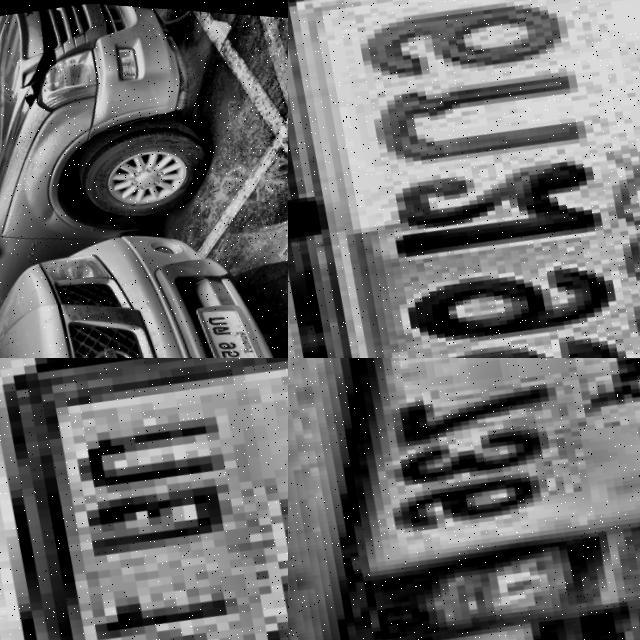license-plate: (288, 0, 640, 358), (288, 358, 640, 640), (0, 358, 288, 640), (191, 287, 278, 358)
